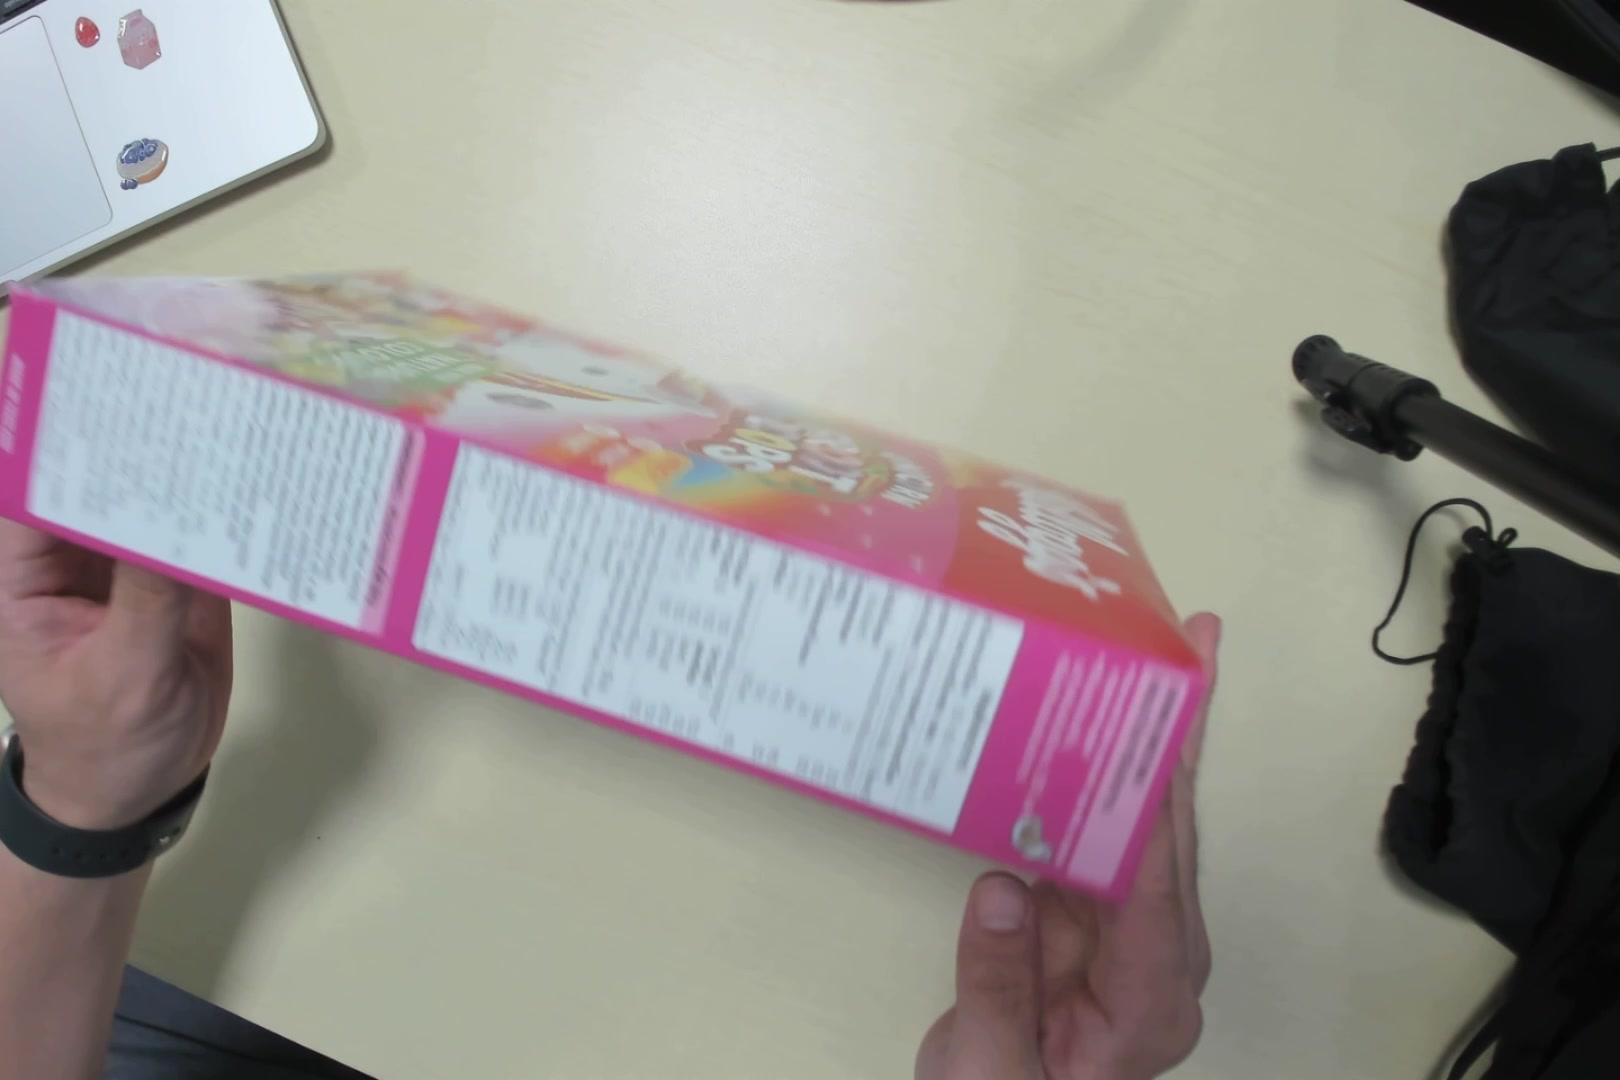BreakfastCereals_200-299g_Halal_NonHealthy: (12, 252, 1204, 879)
